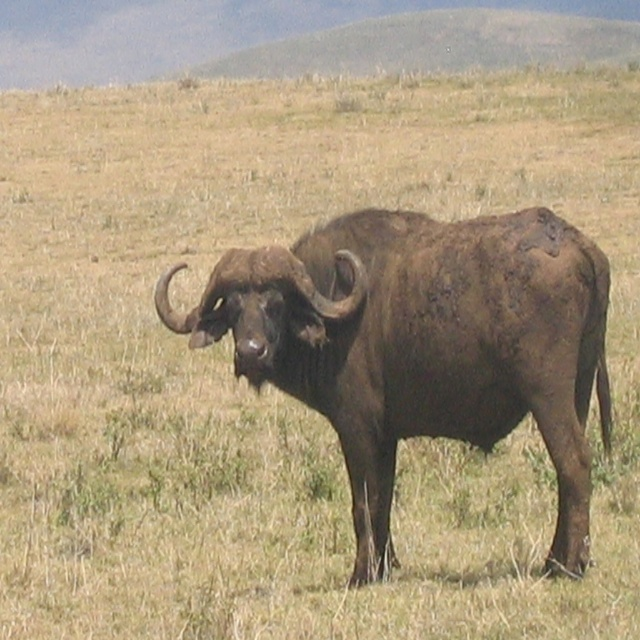Cattle: (154, 207, 614, 590)
